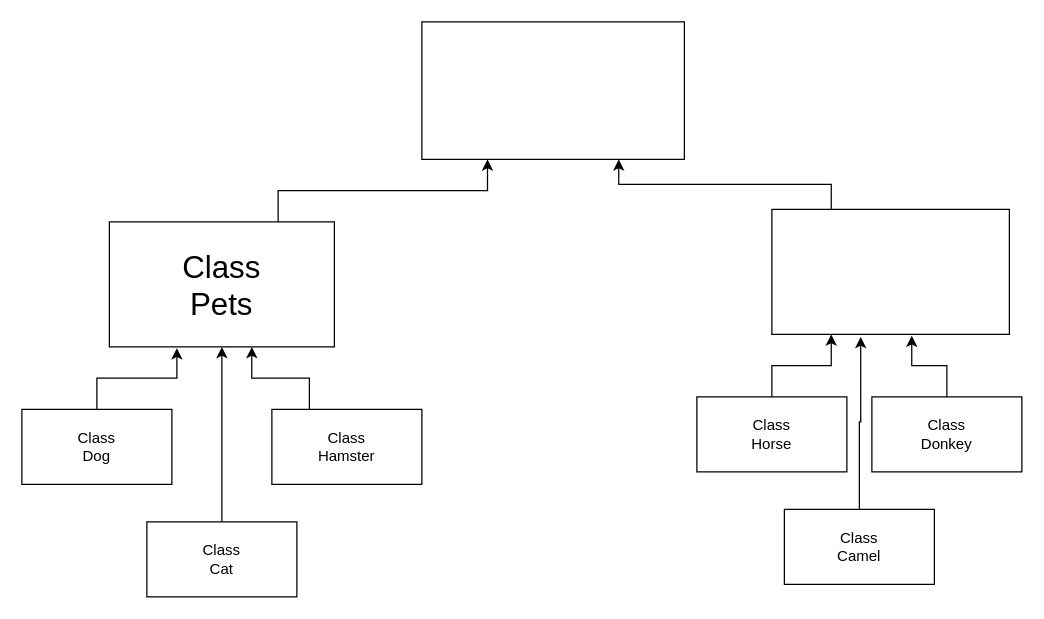
Some shapes in this 1044 by 619 pixel diagram are drawn without their labels. The shapes that lost their labels are listed below. From the top down, each one's centre as x and y in pixels, then its label:
pixel 552 90: Class Animals
pixel 890 271: Class Pack animals
